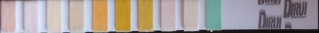color 1: (2, 2, 14, 31)
color 10: (208, 1, 219, 27)
color 2: (26, 3, 37, 32)
color 3: (48, 2, 59, 30)
color 4: (71, 2, 82, 31)
color 5: (94, 1, 106, 31)
color 6: (117, 1, 128, 30)
color 7: (139, 1, 151, 29)
color 8: (162, 1, 174, 29)
color 9: (185, 1, 196, 29)
